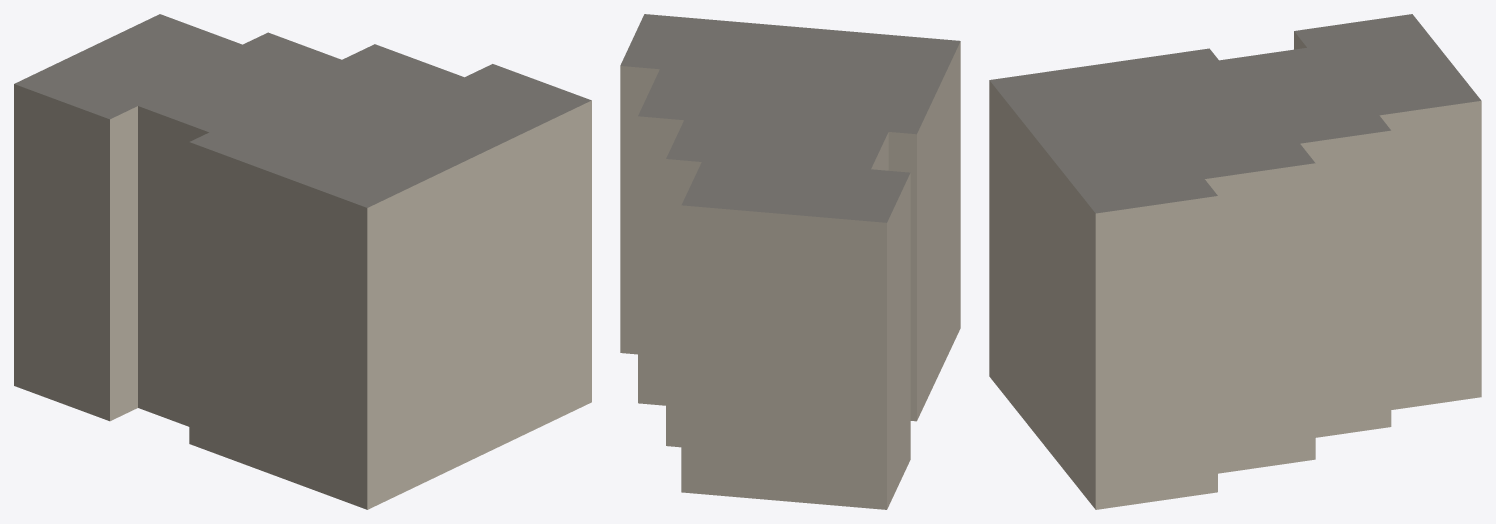
3 views of the same model, side by side, from view 1: azimuth 30°, elevation 25°; view 2: azimuth 150°, elevation 25°; view 3: azimuth 270°, elevation 25° (orthographic). The views are drawn at different scales.
Visible parts, largest first — view 1: HP-w534130924; view 2: HP-w534130924; view 3: HP-w534130924.
Part boxes in pixels (x1=…): HP-w534130924: x1=14, y1=14, x2=591, y2=509; HP-w534130924: x1=620, y1=14, x2=960, y2=509; HP-w534130924: x1=989, y1=14, x2=1481, y2=509.
Bounding box in the file's own units: 25.98 × 18 × 27.09.
